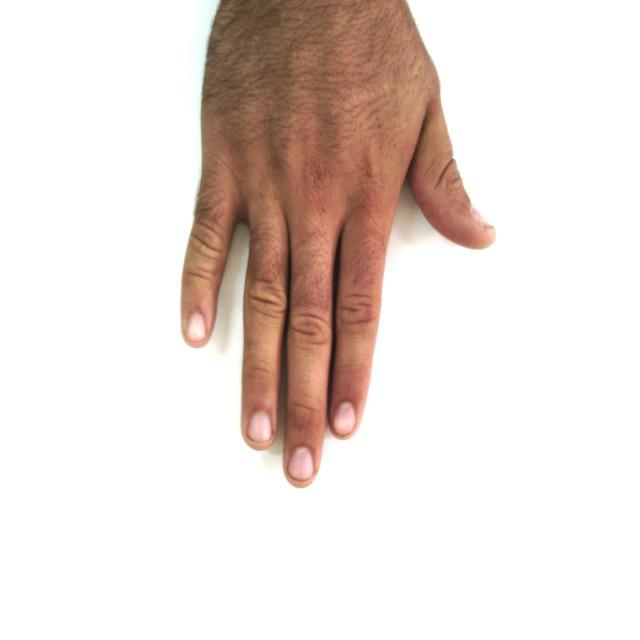Fingernail: (290, 447, 313, 480), (333, 403, 355, 435), (249, 412, 272, 442), (188, 312, 206, 341), (471, 209, 493, 229)
